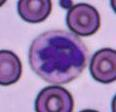N: (28, 29, 88, 84)
